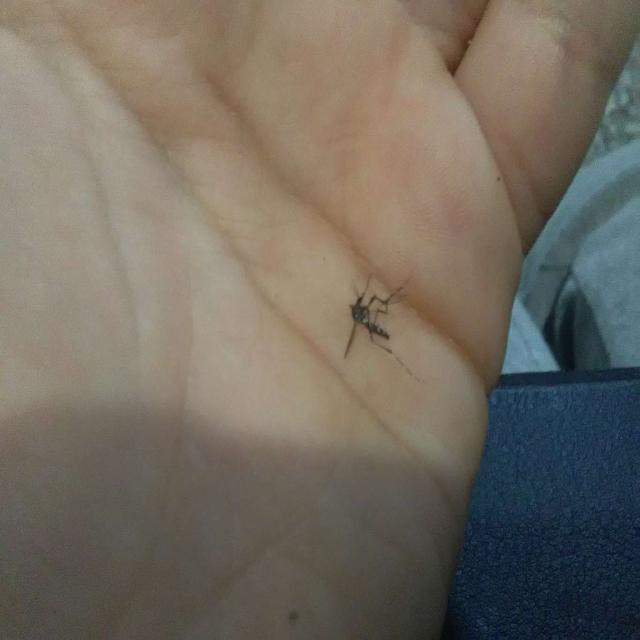albopictus: (335, 266, 424, 378)
